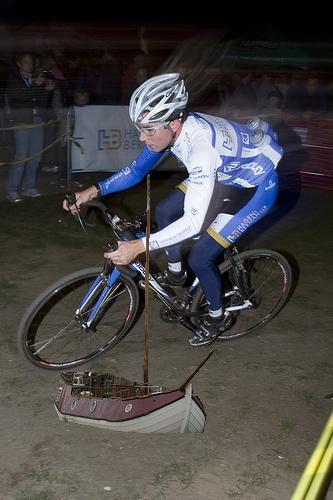tampered: (54, 175, 214, 433)
